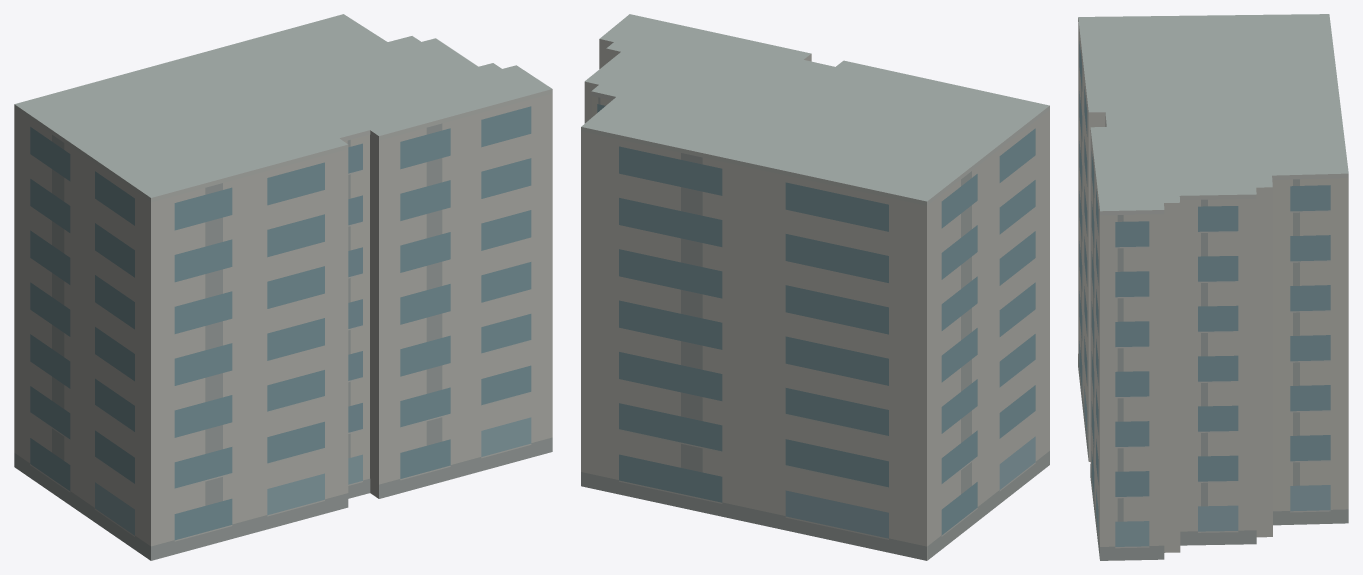
The model's file is survey-upis-32940125.glb.
The picture shows the model from 3 angles, left to right: view 1: azimuth 30°, elevation 25°; view 2: azimuth 150°, elevation 25°; view 3: azimuth 270°, elevation 25°; orthographic projection. The views are drawn at different scales.
Visible parts, largest first — view 1: survey-upis-32940125.tmp; view 2: survey-upis-32940125.tmp; view 3: survey-upis-32940125.tmp.
Boxes of the visible parts, x1=… form: survey-upis-32940125.tmp: x1=14, y1=14, x2=552, y2=560; survey-upis-32940125.tmp: x1=581, y1=14, x2=1049, y2=560; survey-upis-32940125.tmp: x1=1078, y1=14, x2=1348, y2=560.
Bounding box in the file's own units: 23.89 × 19.75 × 13.86.
